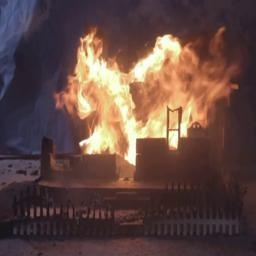fire: (56, 16, 220, 156)
